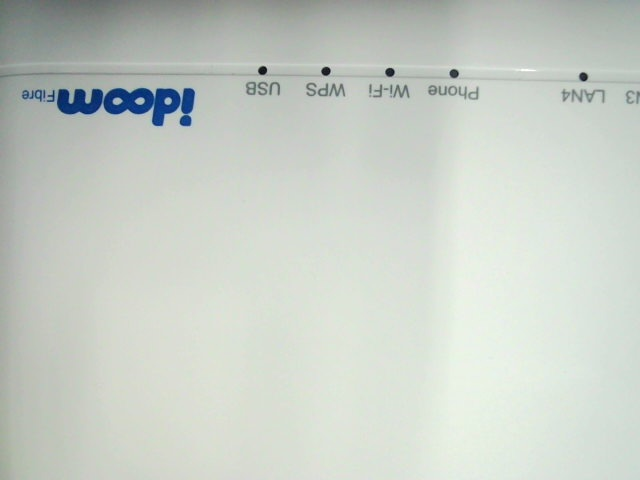BB_idoom: (19, 78, 197, 133)
